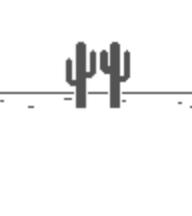dead-t-rex: (59, 36, 135, 111)
